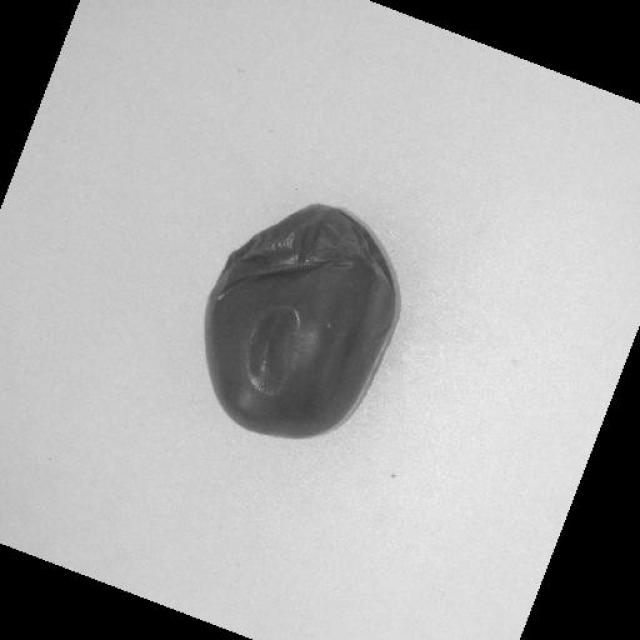Stale_tomato: (209, 214, 495, 414)
